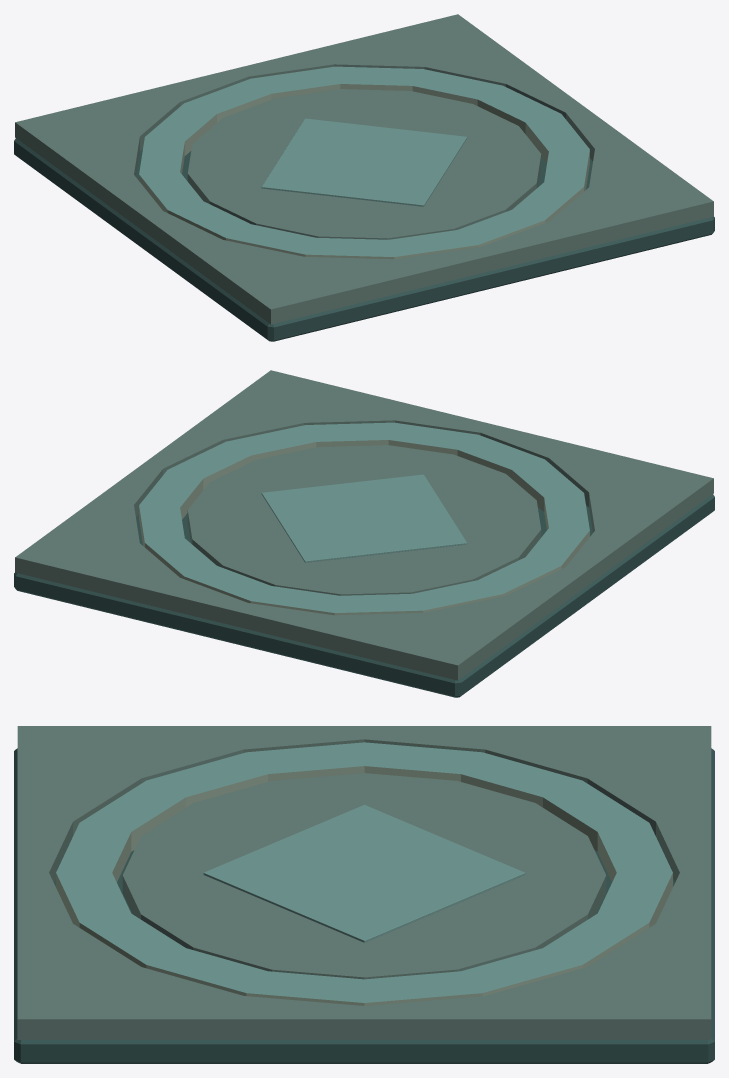
Rendered from floor-radial.glb.
The picture shows the model from 3 angles, top to bottom: view 1: azimuth 30°, elevation 25°; view 2: azimuth 150°, elevation 25°; view 3: azimuth 270°, elevation 25°; orthographic projection. The views are drawn at different scales.
Parts seen in each view (by area): view 1: floor-radial__body; view 2: floor-radial__body; view 3: floor-radial__body.
Boxes of the visible parts, left/top/right/bottom form: floor-radial__body: left=14, top=14, right=714, bottom=341; floor-radial__body: left=14, top=370, right=714, bottom=697; floor-radial__body: left=14, top=726, right=714, bottom=1063.
Bounding box in the file's own units: 2 × 0.14 × 2.
